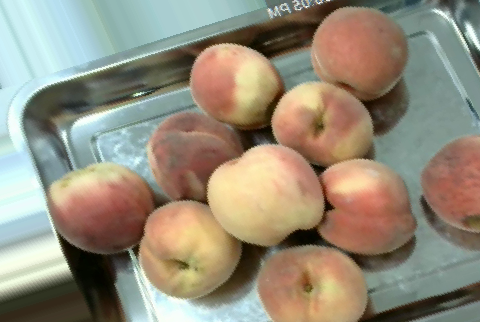Peach: (205, 143, 325, 245), (135, 199, 242, 298), (45, 162, 154, 254), (315, 160, 418, 255), (308, 3, 408, 99), (269, 80, 377, 165), (145, 110, 244, 199), (254, 245, 367, 321), (187, 41, 282, 128), (421, 131, 479, 234)
